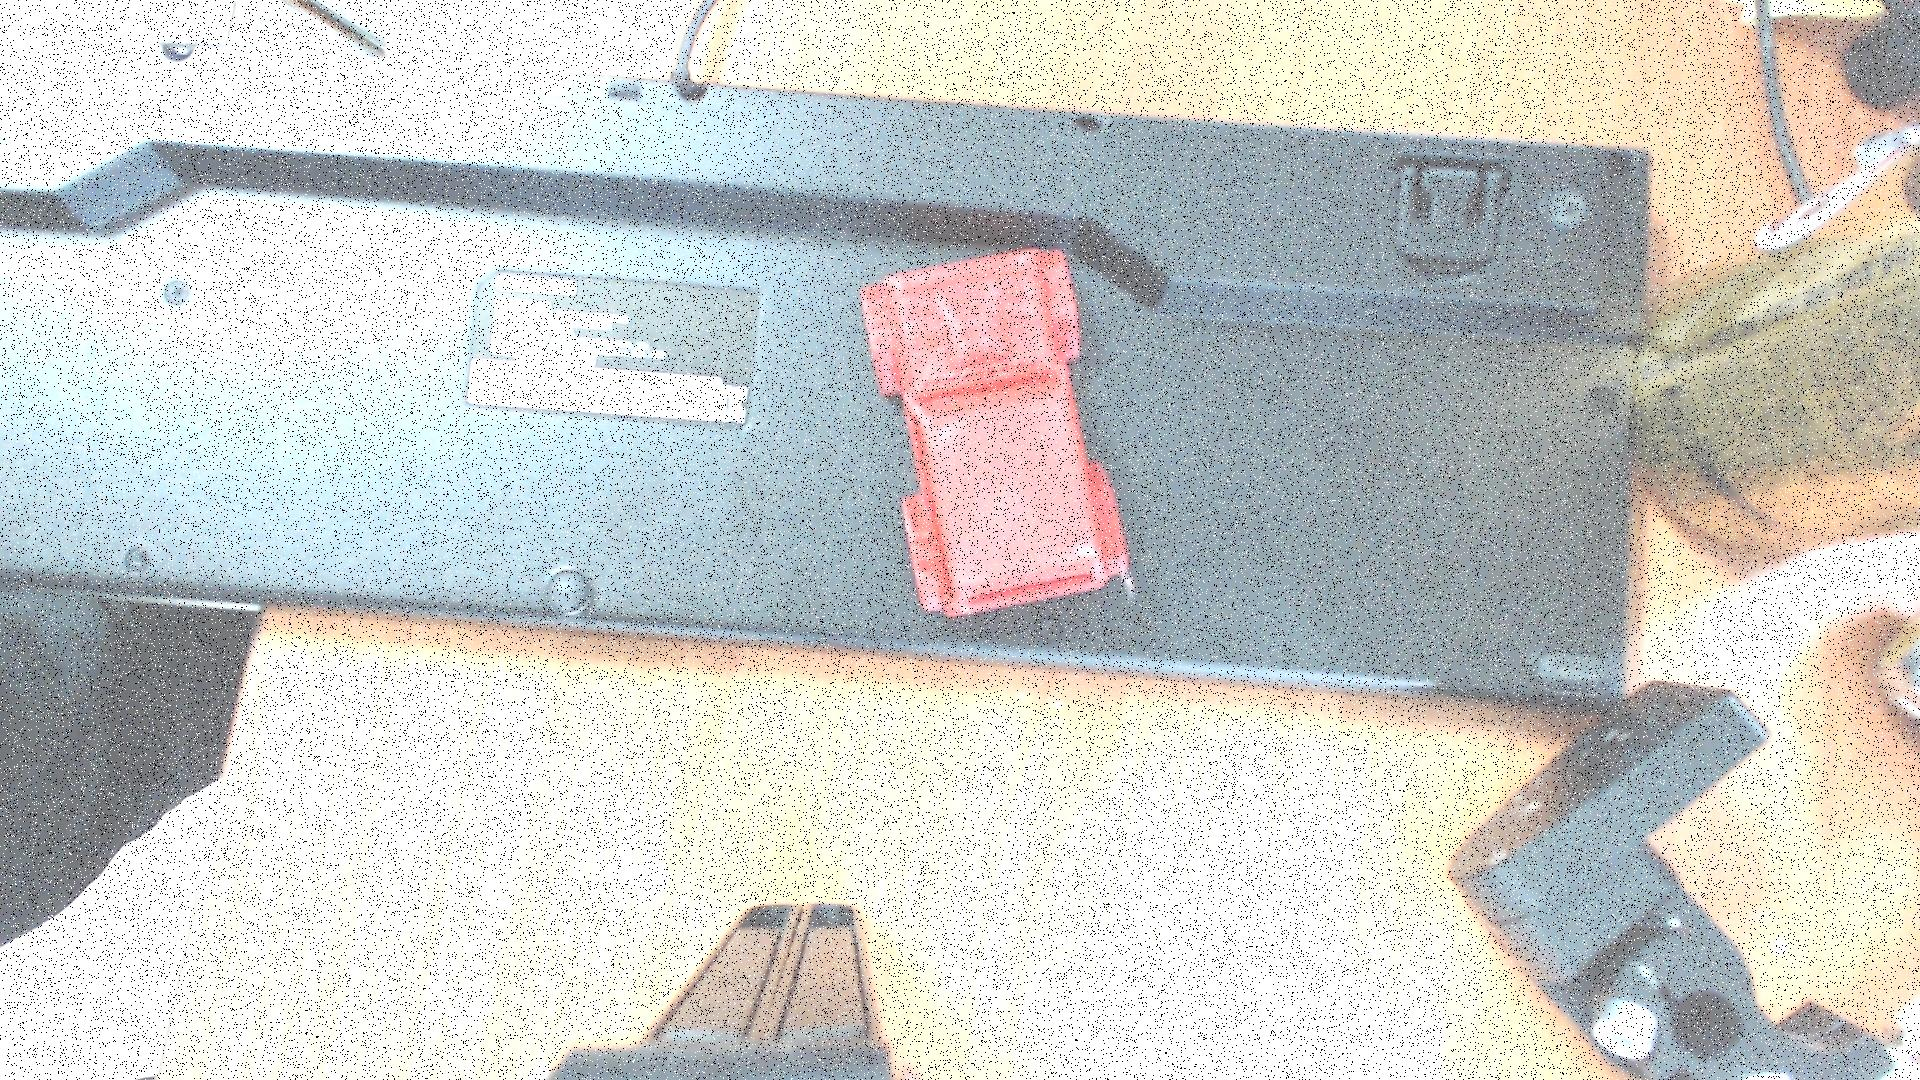Upper_ok: (862, 249, 1127, 617)
